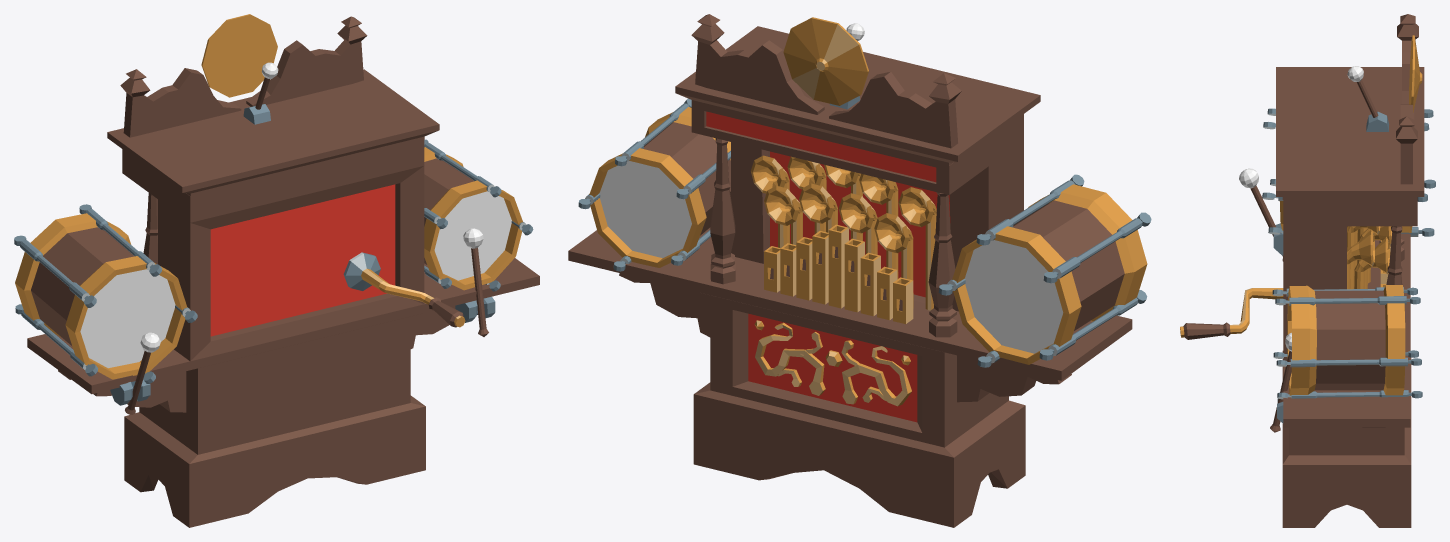
The model's file is organ.glb.
The picture shows the model from 3 angles, left to right: view 1: azimuth 30°, elevation 25°; view 2: azimuth 150°, elevation 25°; view 3: azimuth 270°, elevation 25°; orthographic projection. The views are drawn at different scales.
Visible parts, largest first — view 1: group459320016; view 2: group459320016, group2006517871; view 3: group459320016, group2006517871.
Part boxes in pixels (x1,y1,x2,y2): group459320016: [14, 14, 539, 527]; group459320016: [568, 14, 1151, 527]; group2006517871: [751, 155, 936, 310]; group459320016: [1180, 14, 1435, 527]; group2006517871: [1347, 226, 1392, 289].
Size of the model in its own units: 1.58 by 1.42 by 0.7655.
